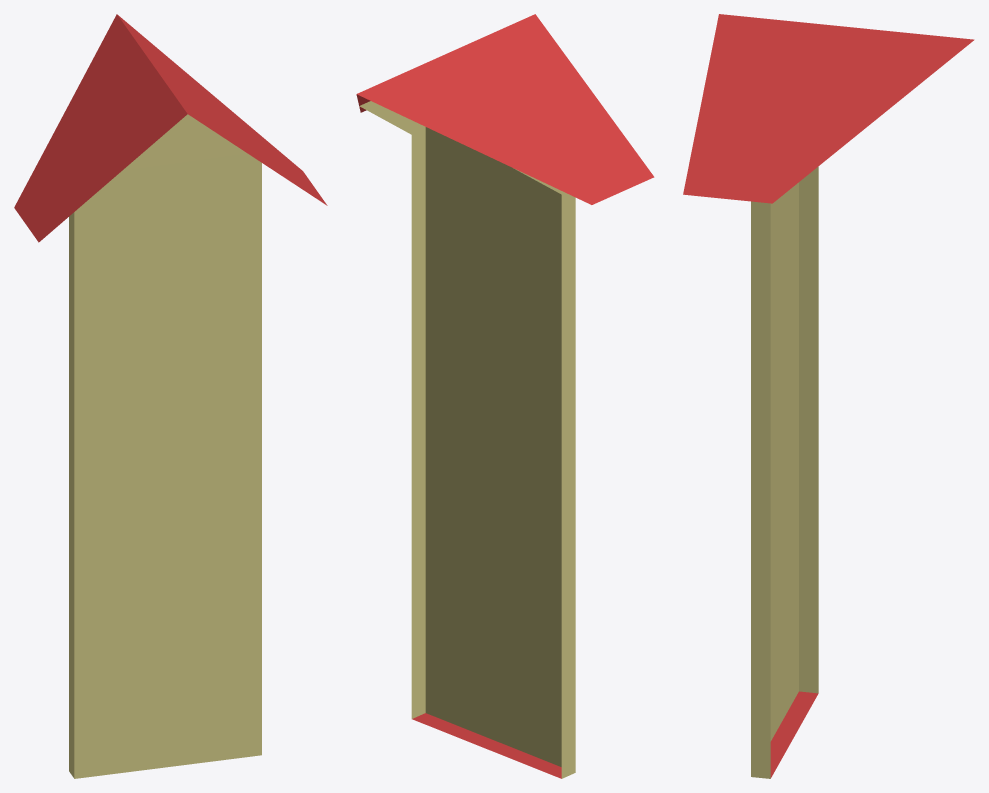
3 renders of one model, left to right at view 1: azimuth 30°, elevation 25°; view 2: azimuth 150°, elevation 25°; view 3: azimuth 270°, elevation 25°, orthographic. The views are drawn at different scales.
Visible parts, largest first — view 1: group_5, group_3, group_4; view 2: group_5, group_3, group_4, group_6; view 3: group_5, group_3, group_6, group_4.
Boxes of the visible parts, bbox=[...] form: group_5: bbox=[69, 114, 261, 778]; group_3: bbox=[14, 14, 327, 242]; group_4: bbox=[15, 116, 323, 241]; group_5: bbox=[359, 101, 575, 778]; group_3: bbox=[356, 14, 654, 204]; group_4: bbox=[361, 17, 651, 202]; group_6: bbox=[412, 713, 561, 778]; group_5: bbox=[751, 166, 818, 778]; group_3: bbox=[683, 14, 974, 203]; group_6: bbox=[770, 691, 818, 778]; group_4: bbox=[687, 142, 794, 202].
Size of the model in its own units: 5.91 by 5.18 by 14.02.
